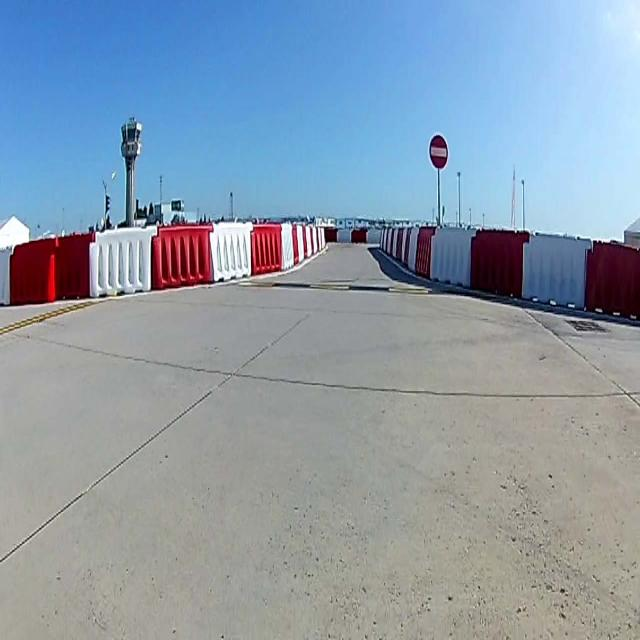girisyok: (428, 132, 450, 172)
